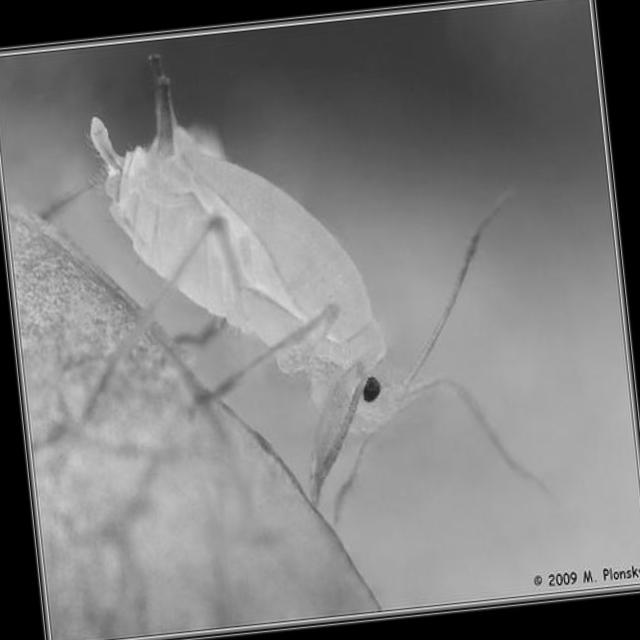Aphids: (56, 25, 552, 569)
